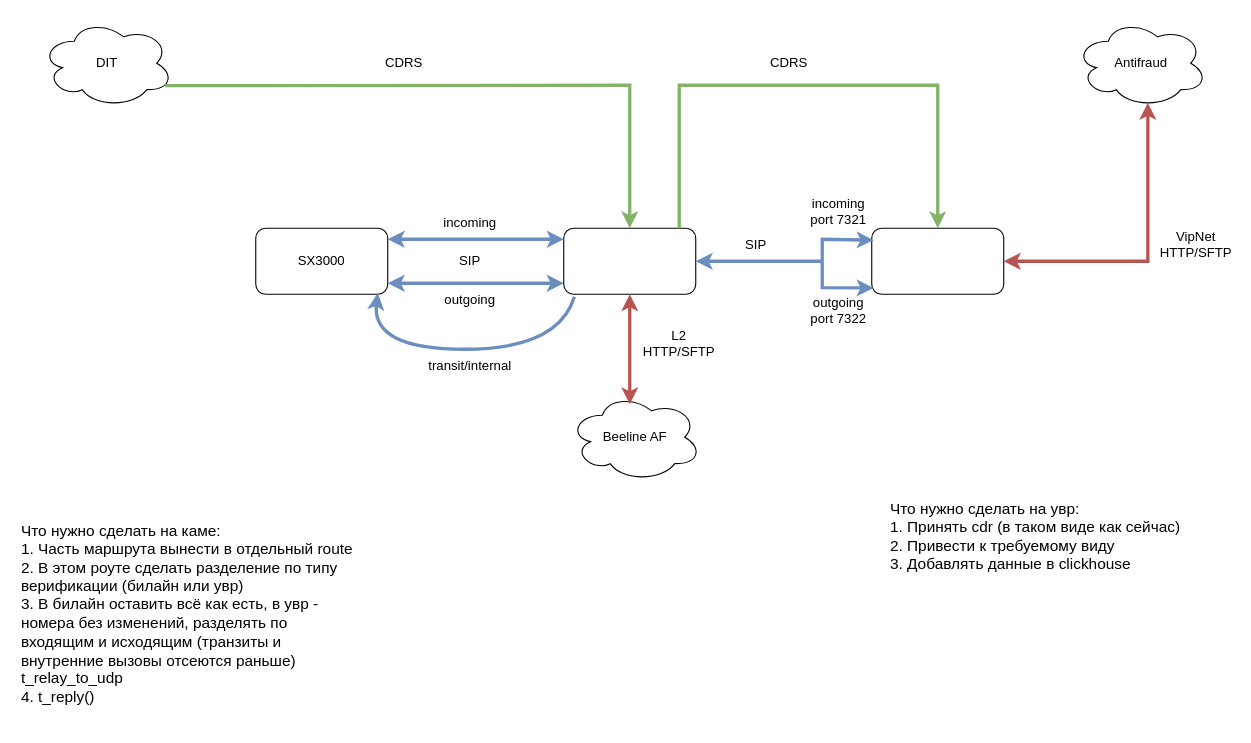
Some shapes in this 1251 by 743 pixel diagram are drawn without their labels. The shapes that lost their labels are listed below. From the top down, each one's box as (x1, y1, x2, y2) in pixels, then its label:
(563, 227, 696, 294): Kama_AF
(871, 227, 1004, 294): UVR
